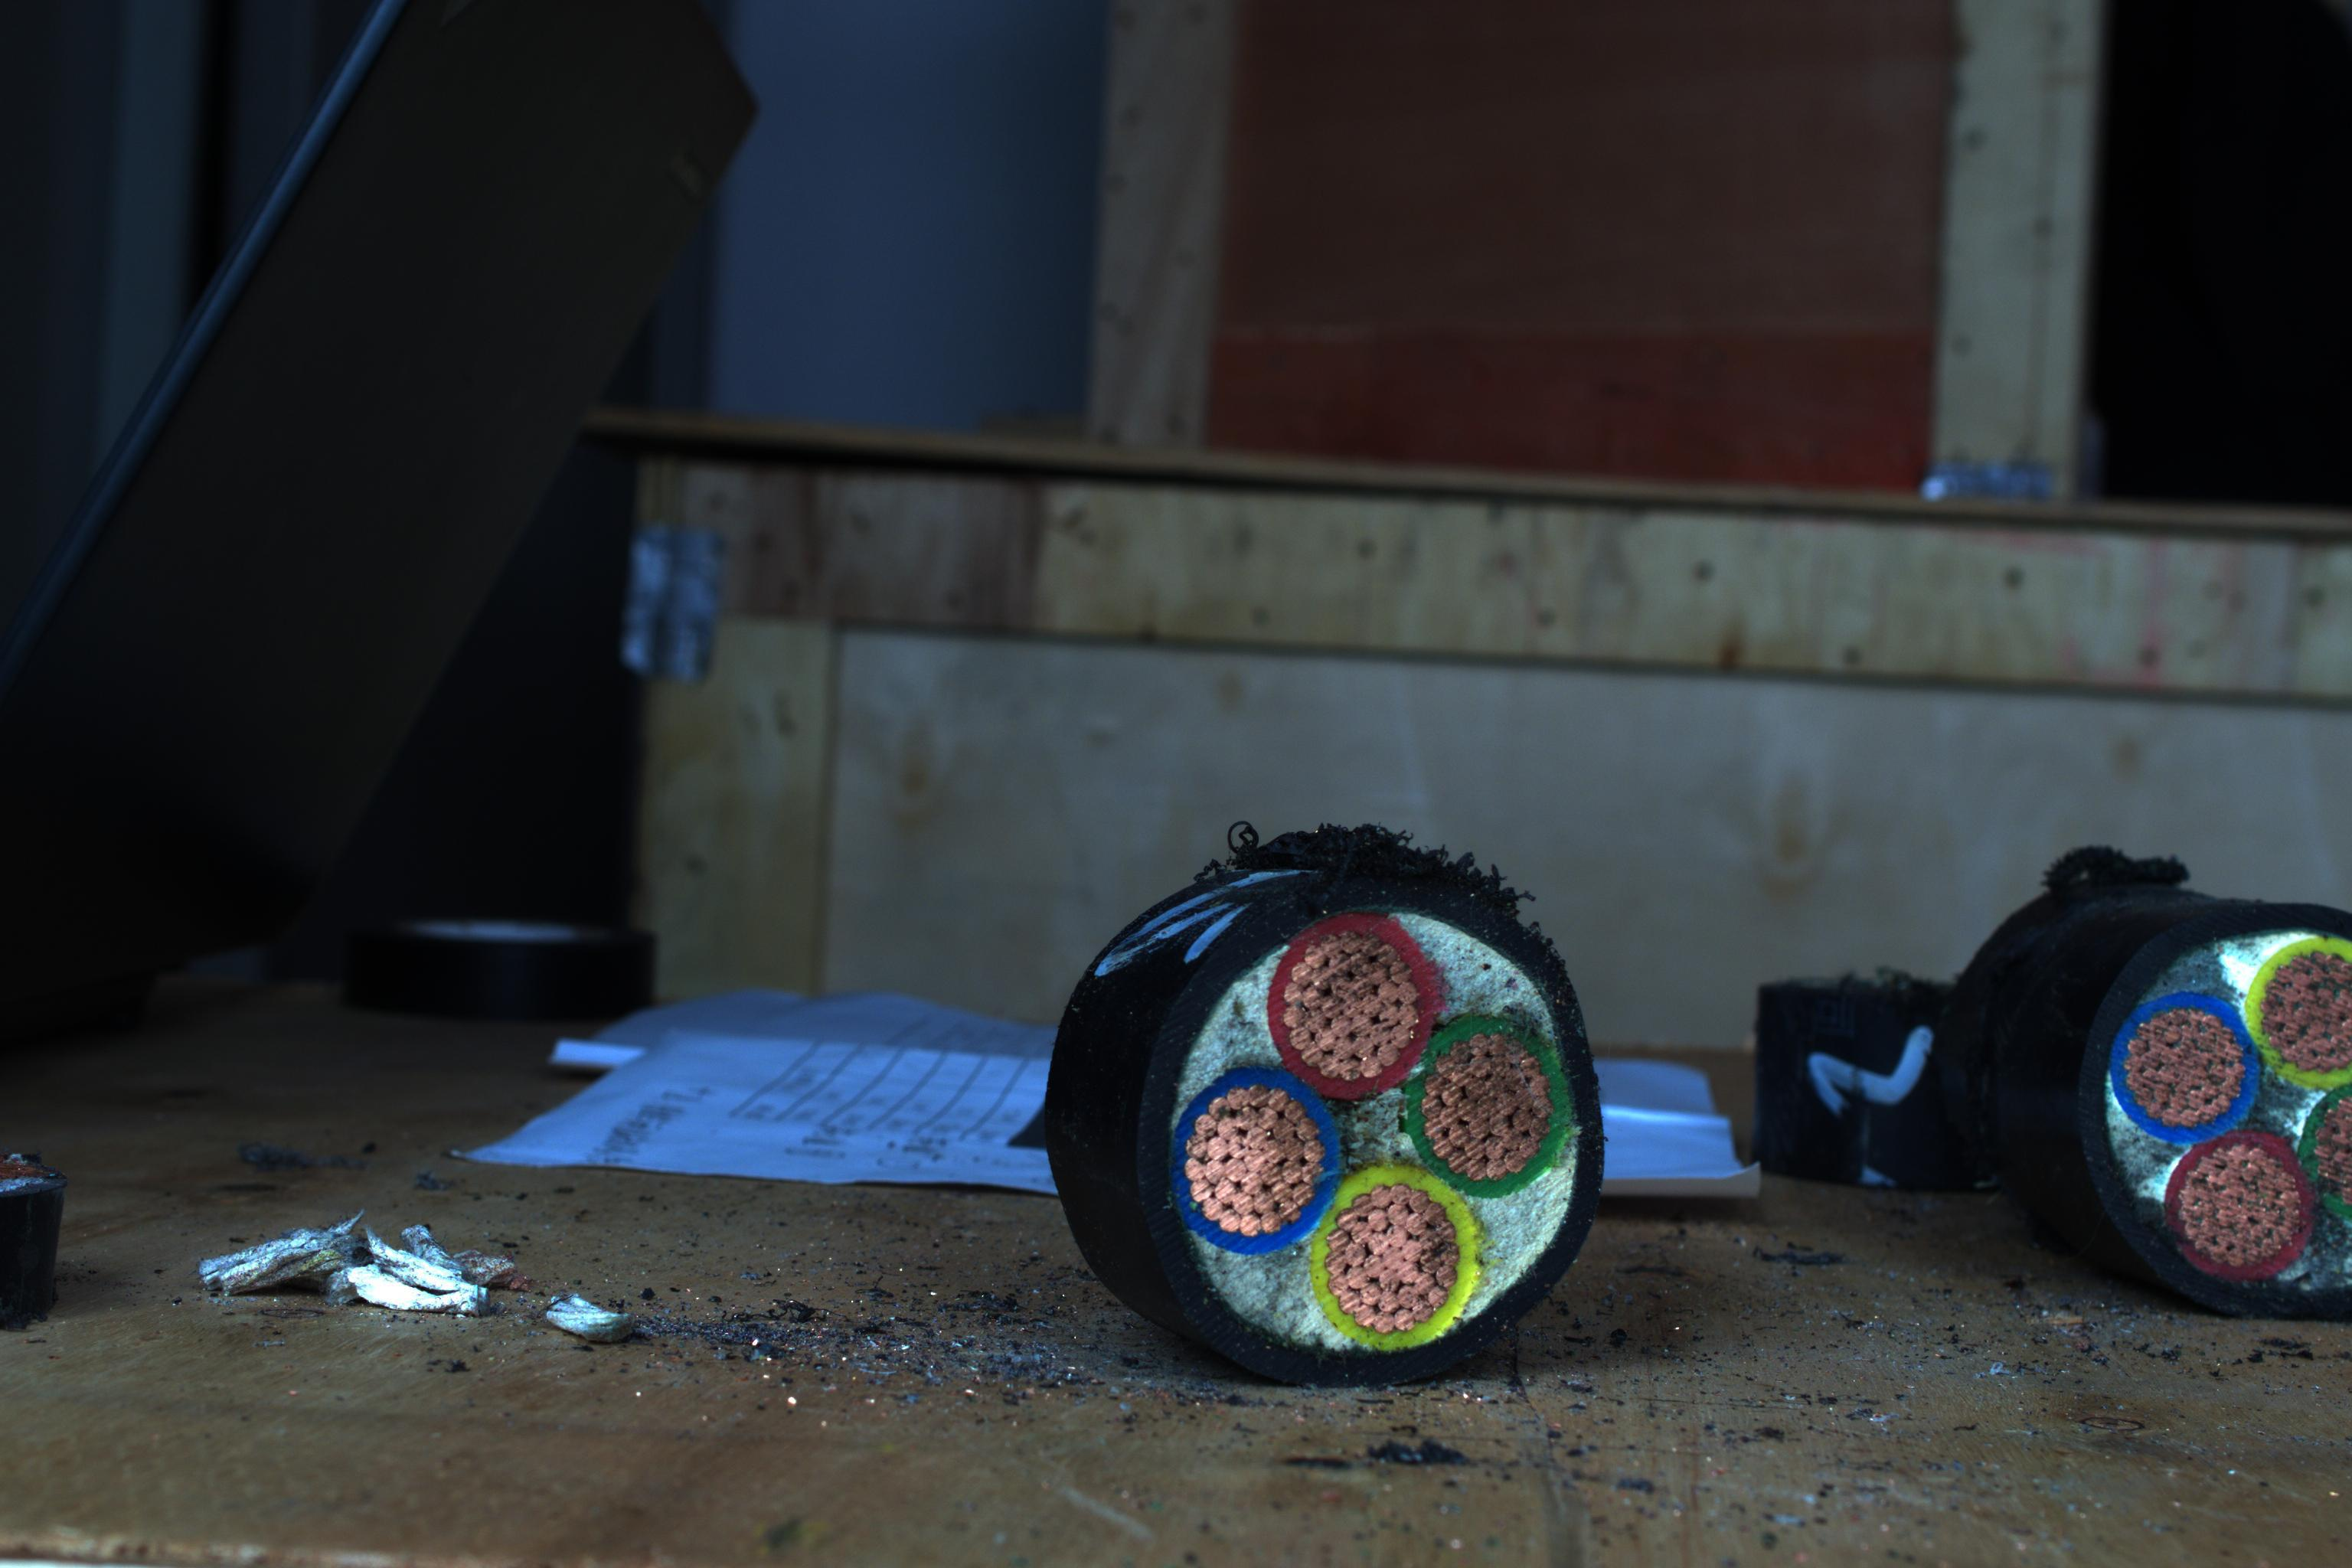YJV_0.6_1kV_4x185: (1115, 882, 1620, 1358)
